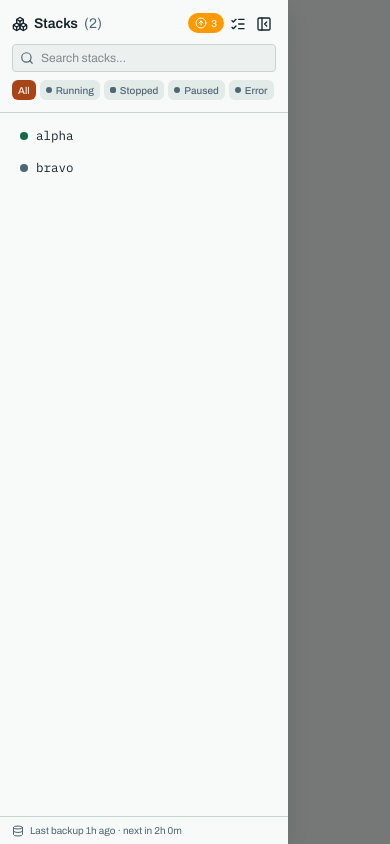
it: Sidebar › filters the stack list by status
The width and height of the screenshot is (390, 844).
Check: the text "alpha" is shown, box [36,127,74,143]
Click the button "Stopped": (134, 90) [104,80,164,100]
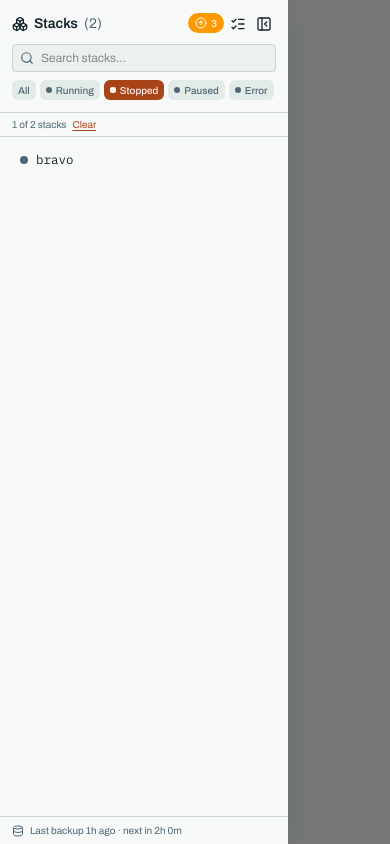
Check: the text "bravo" is shown, box [36,151,74,167]
Check: the link "alpha" is gone
